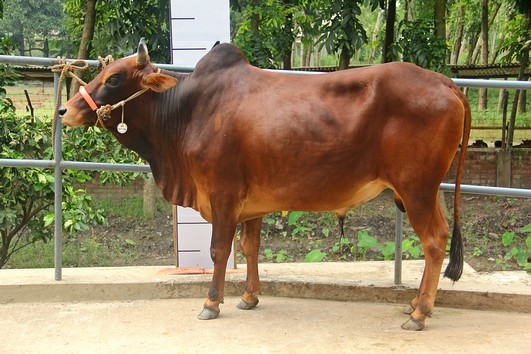cow: (53, 32, 470, 332)
